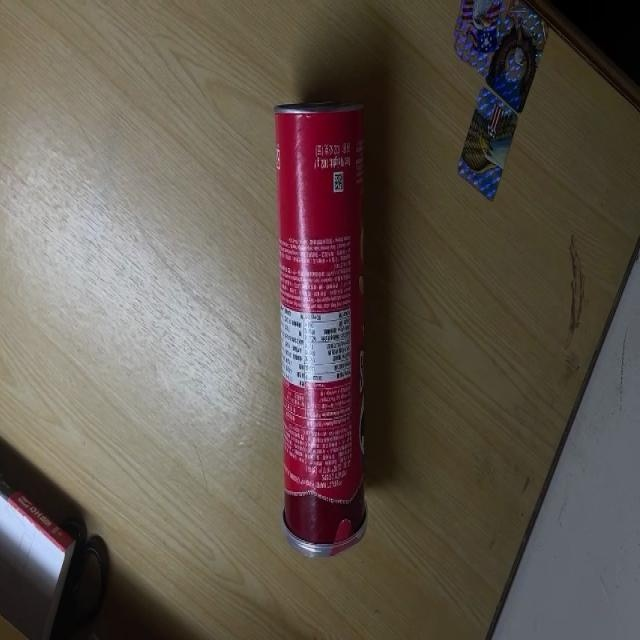Pringles: (272, 95, 369, 559)
